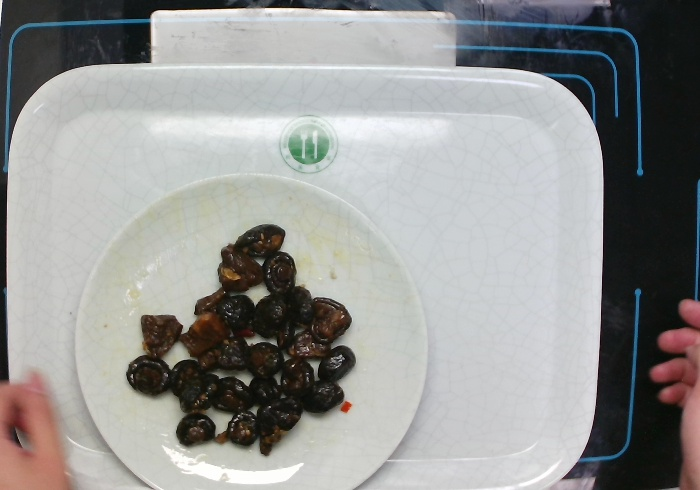JYsf-Da_Yuan_Pan: (71, 169, 430, 490)
